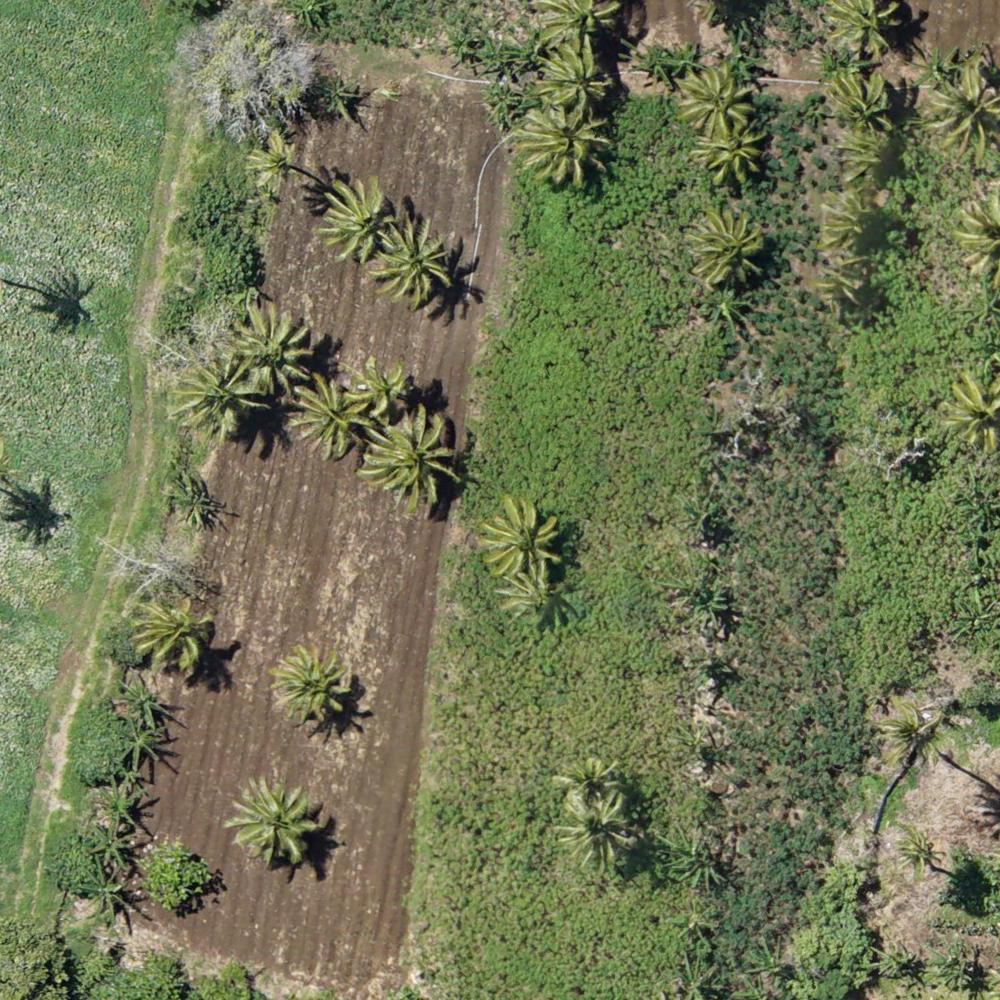Palm: (222, 293, 313, 392), (362, 416, 456, 507), (174, 350, 265, 433), (225, 781, 316, 863), (268, 648, 354, 727), (923, 65, 1000, 153), (520, 106, 606, 183), (289, 377, 371, 456), (379, 218, 455, 301), (323, 177, 399, 258), (481, 497, 562, 572), (681, 65, 758, 141), (693, 212, 769, 283), (132, 595, 207, 665), (540, 44, 612, 106), (563, 805, 634, 864), (241, 132, 306, 195), (828, 1, 899, 58), (692, 129, 765, 181), (879, 706, 943, 765), (554, 759, 624, 811), (345, 361, 406, 418), (504, 563, 564, 619), (889, 821, 945, 872)
